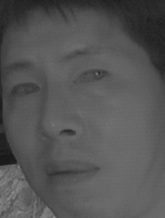eye: (71, 65, 112, 92), (9, 79, 42, 103)
mouth: (40, 155, 101, 190)
